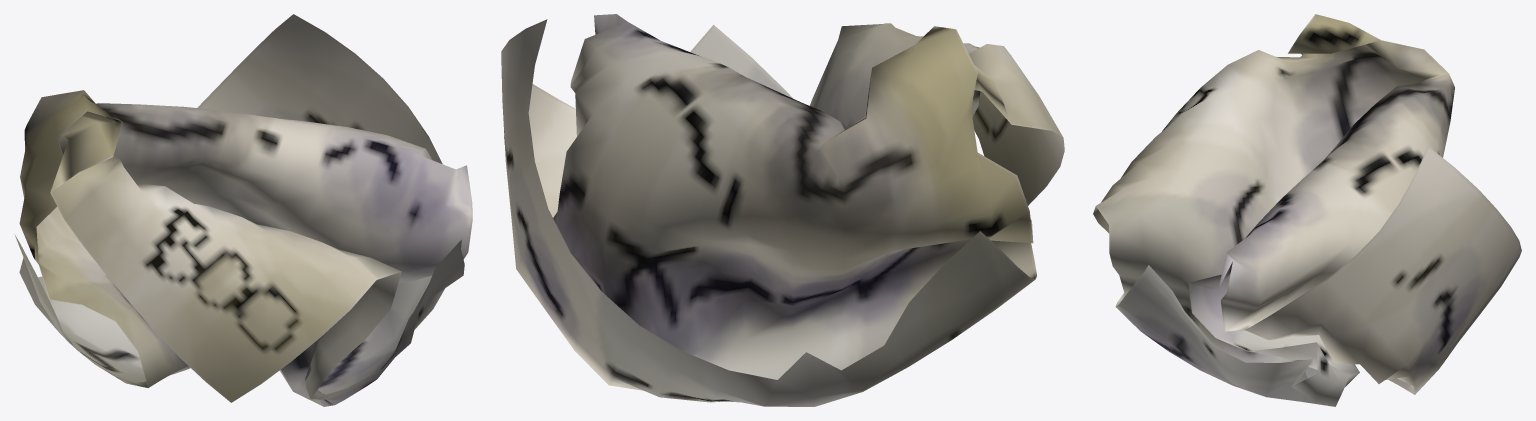
File: Trash_Paper.fbx
The picture shows the model from 3 angles, left to right: view 1: azimuth 30°, elevation 25°; view 2: azimuth 150°, elevation 25°; view 3: azimuth 270°, elevation 25°; orthographic projection. The views are drawn at different scales.
Parts seen in each view (by area): view 1: MeshPaper; view 2: MeshPaper; view 3: MeshPaper.
Boxes of the visible parts, x1,y1,x2,y2 form: MeshPaper: (14,14,472,406); MeshPaper: (501,14,1064,406); MeshPaper: (1093,14,1521,406).
Bounding box in the file's own units: 10.59 × 7.77 × 10.55.
